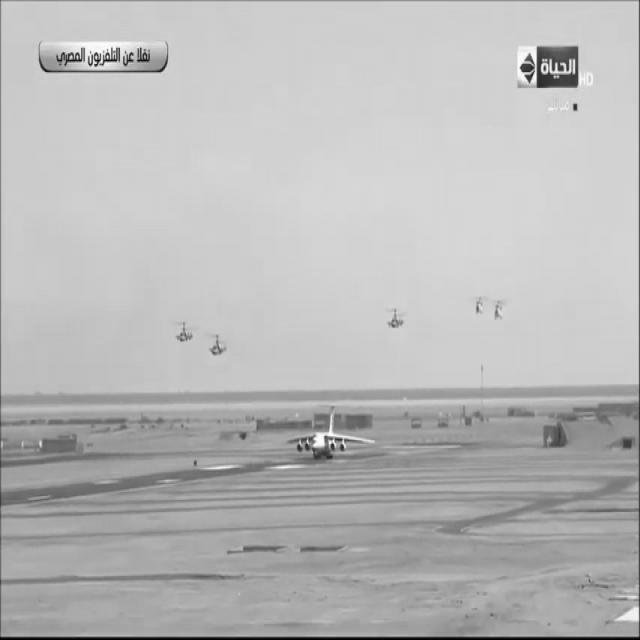helikopter: (153, 292, 241, 374), (371, 290, 418, 344)
